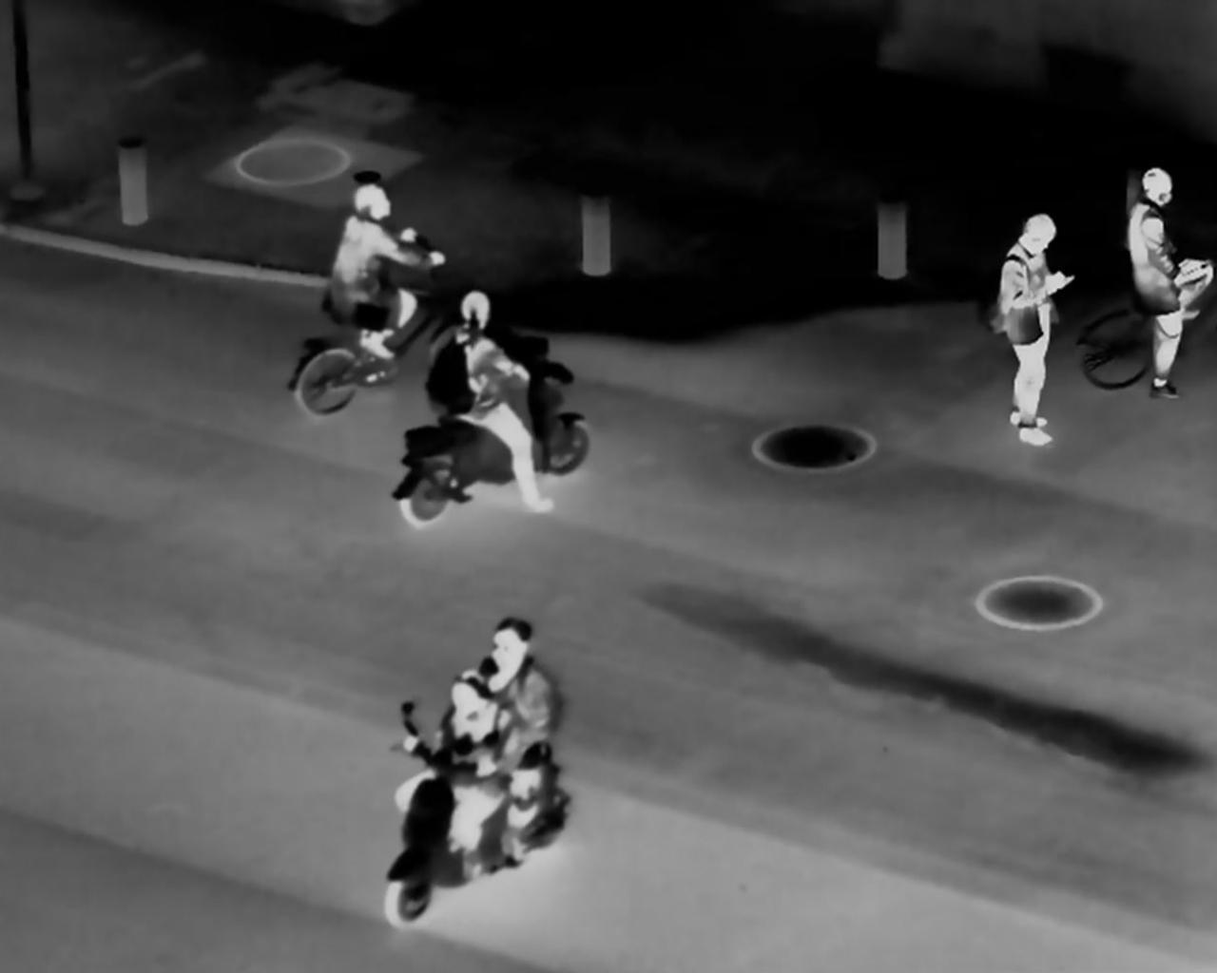person: (420, 278, 556, 539), (316, 176, 450, 370), (980, 204, 1079, 458), (475, 608, 570, 848), (1120, 161, 1214, 392), (409, 670, 510, 875)
